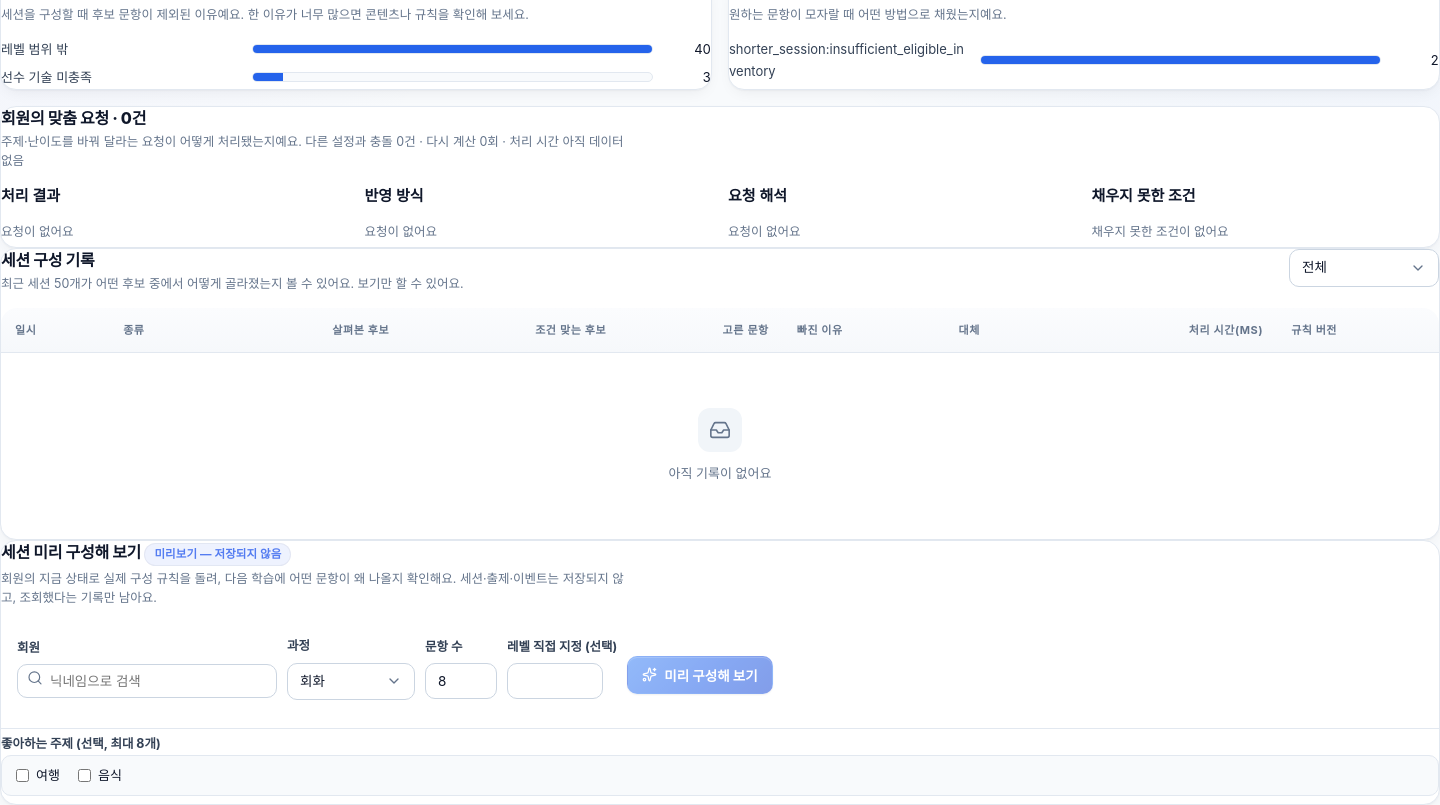
Scenario: RecommendationsPage › picks the learner and topics by name and shows results without ids
(page scrolled)
Expected: the text "미리보기 — 저장되지 않음" is shown, [144,543,292,566]
Type "지수" into the field with placeholder "닉네임으로 검색" at point(147, 681), box [17,664,277,698]
Then press Enter
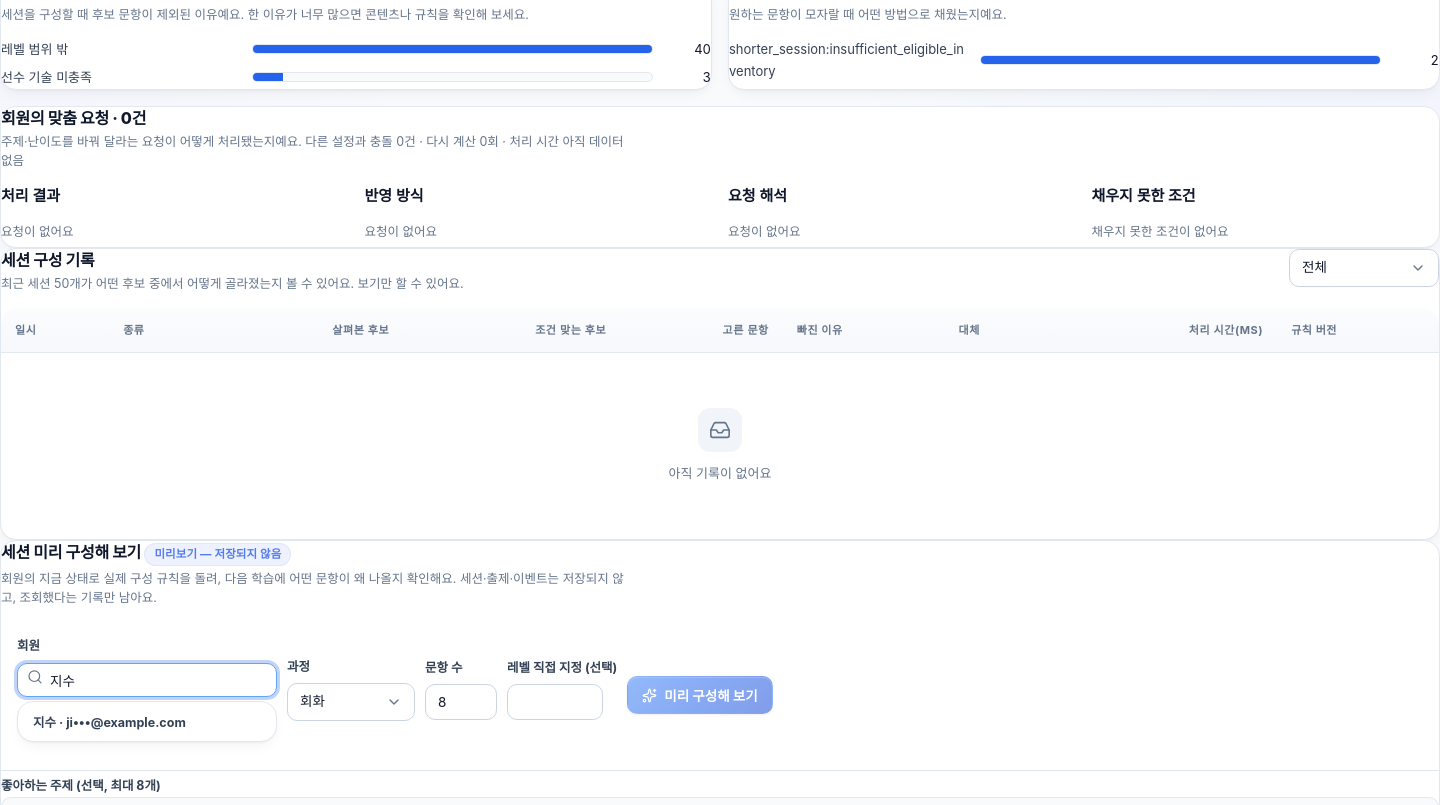
Click the button "지수 · ji•••@example.com" at point(109, 721), box [22,706,197,737]
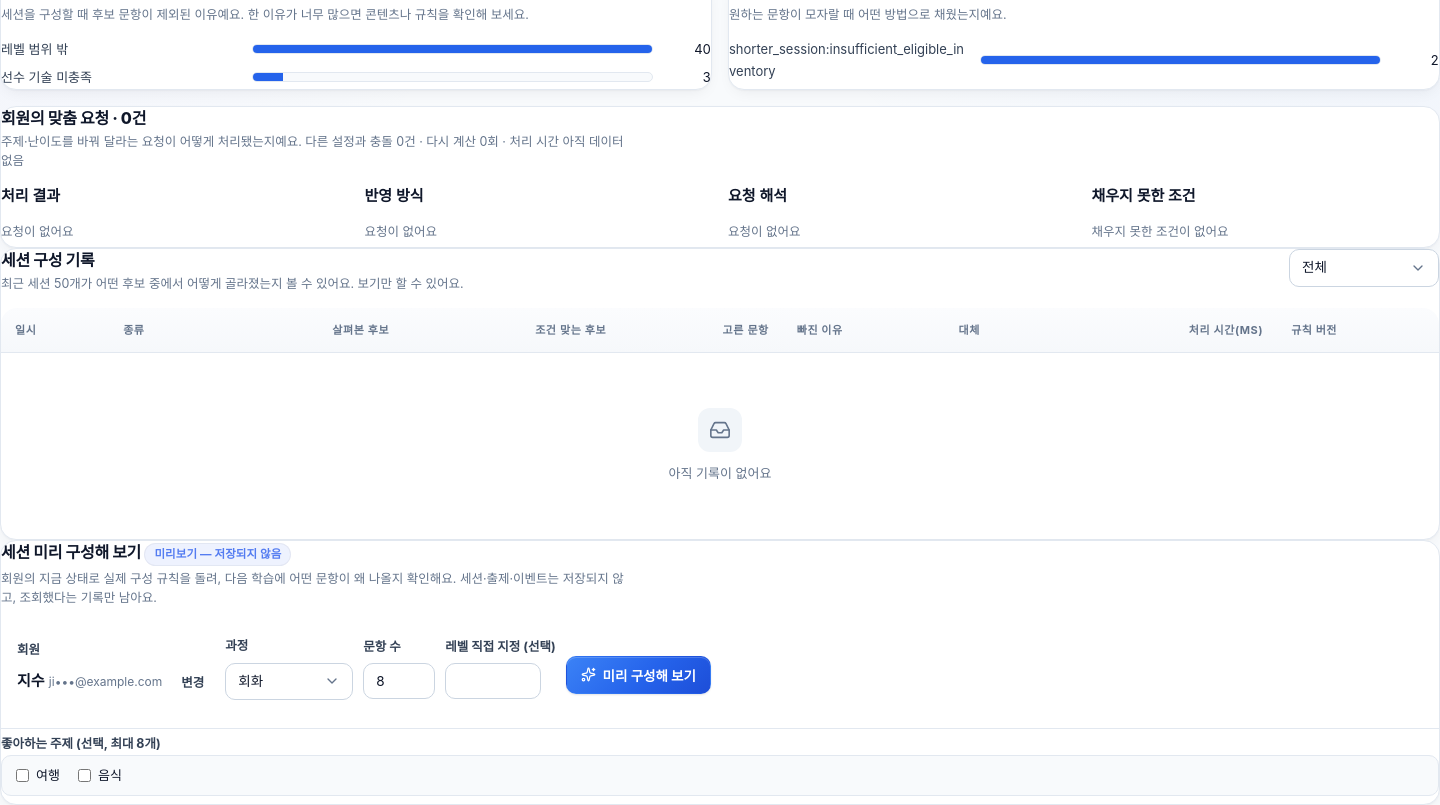
Click the checkbox labelled "여행" at point(22, 776), box [16,769,29,782]
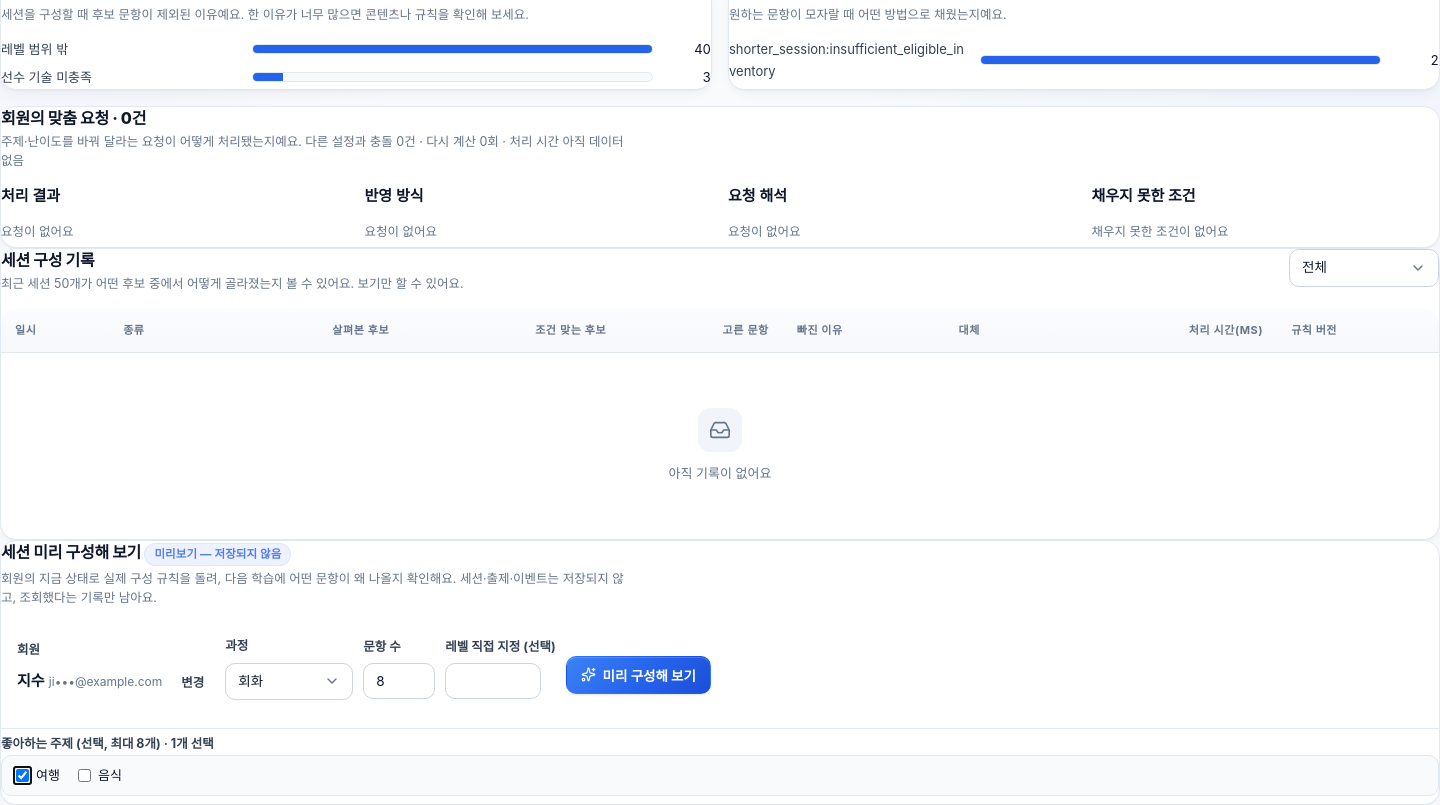
Click the button "미리 구성해 보기" at point(638, 675), box [566,656,711,694]
(page scrolled)
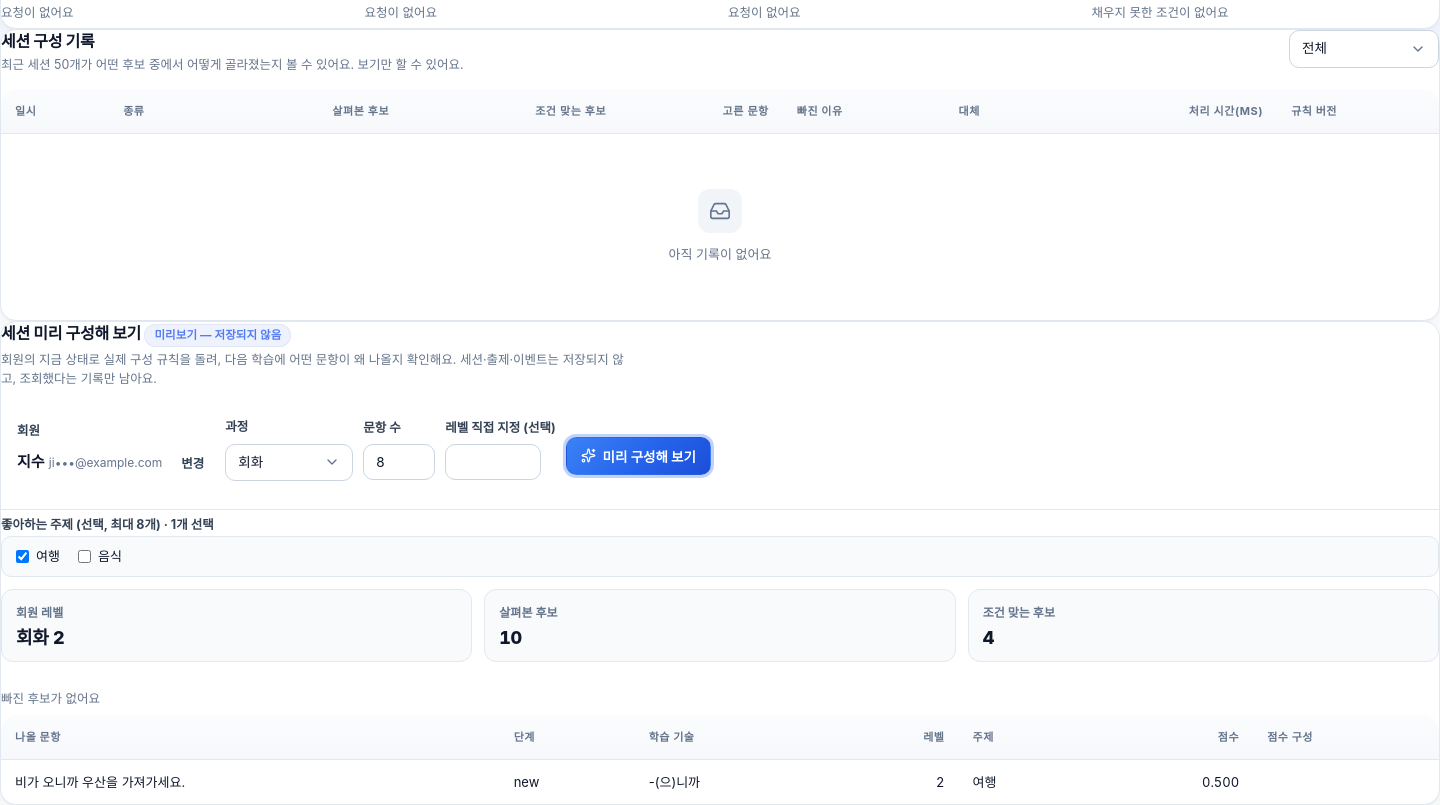
Expected: the text "비가 오니까 우산을 가져가세요." is shown, [15,771,185,793]
Expected: the text "-(으)니까" is shown, [635,759,834,804]
